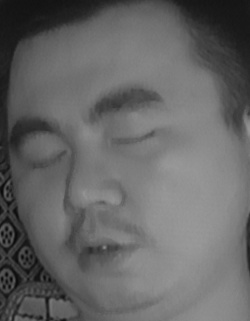blink: (103, 123, 159, 158), (20, 140, 70, 179)
mouth: (61, 223, 148, 280)
